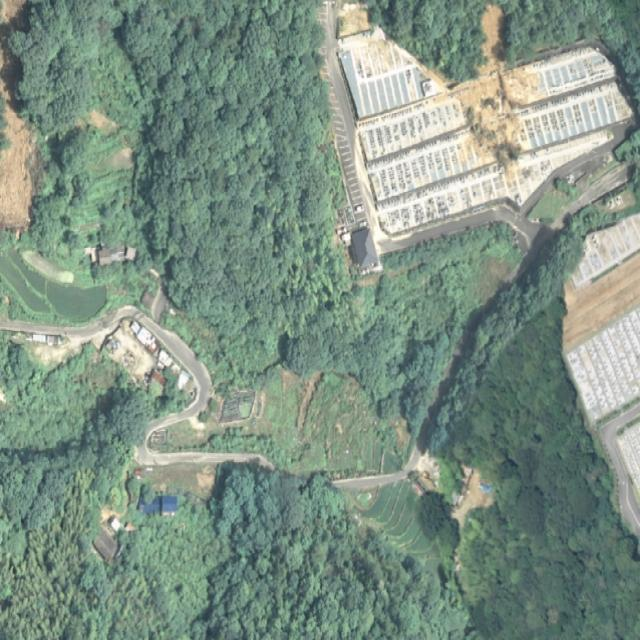landslide: (0, 80, 36, 229)
